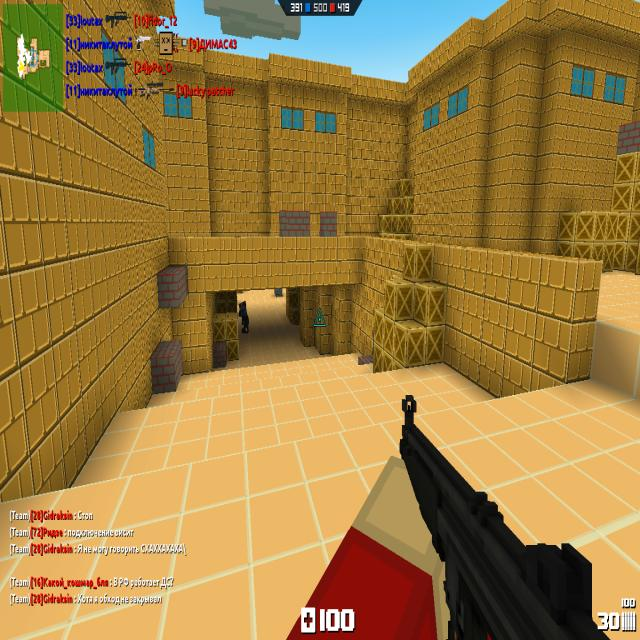enemy: (238, 300, 249, 334)
